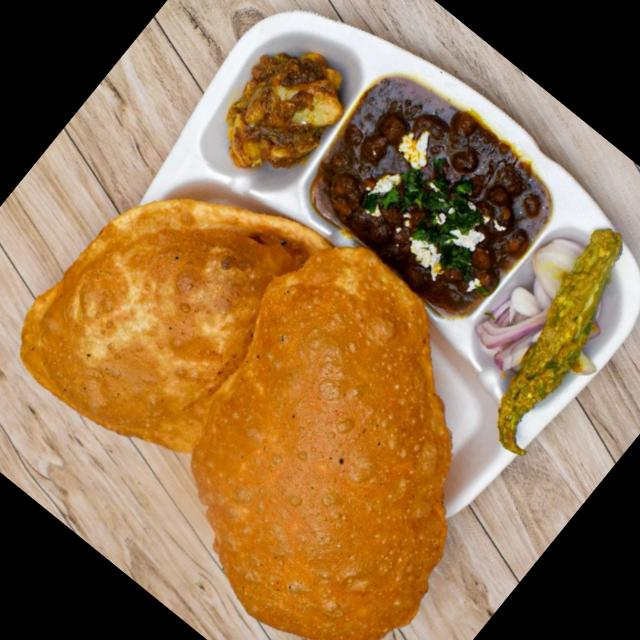Bhatura: (98, 214, 576, 640), (0, 124, 366, 502)
